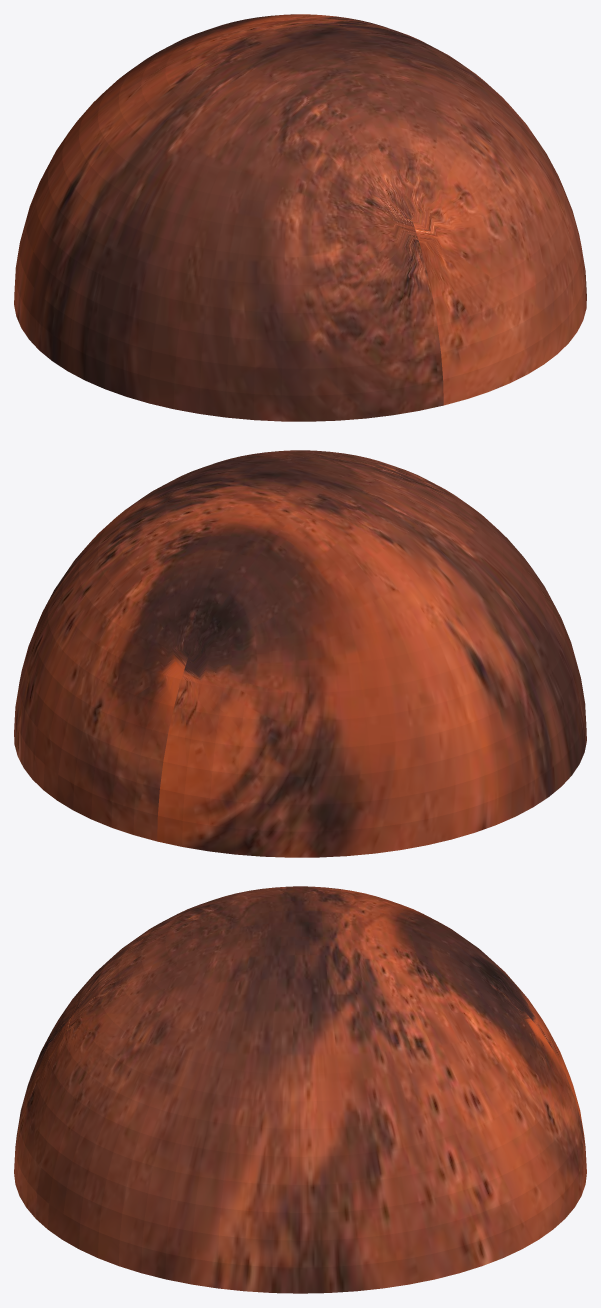
Rendered from finalswave.glb.
The picture shows the model from 3 angles, top to bottom: view 1: azimuth 30°, elevation 25°; view 2: azimuth 150°, elevation 25°; view 3: azimuth 270°, elevation 25°; orthographic projection.
Parts seen in each view (by area): view 1: Sphere; view 2: Sphere; view 3: Sphere.
Part boxes in pixels (x1,y1,x2,y2): Sphere: (14, 14, 586, 421); Sphere: (14, 450, 586, 857); Sphere: (14, 886, 586, 1293).
Size of the model in its own units: 10 by 5.04 by 10.
Materials: 4 (4 with a texture image).
